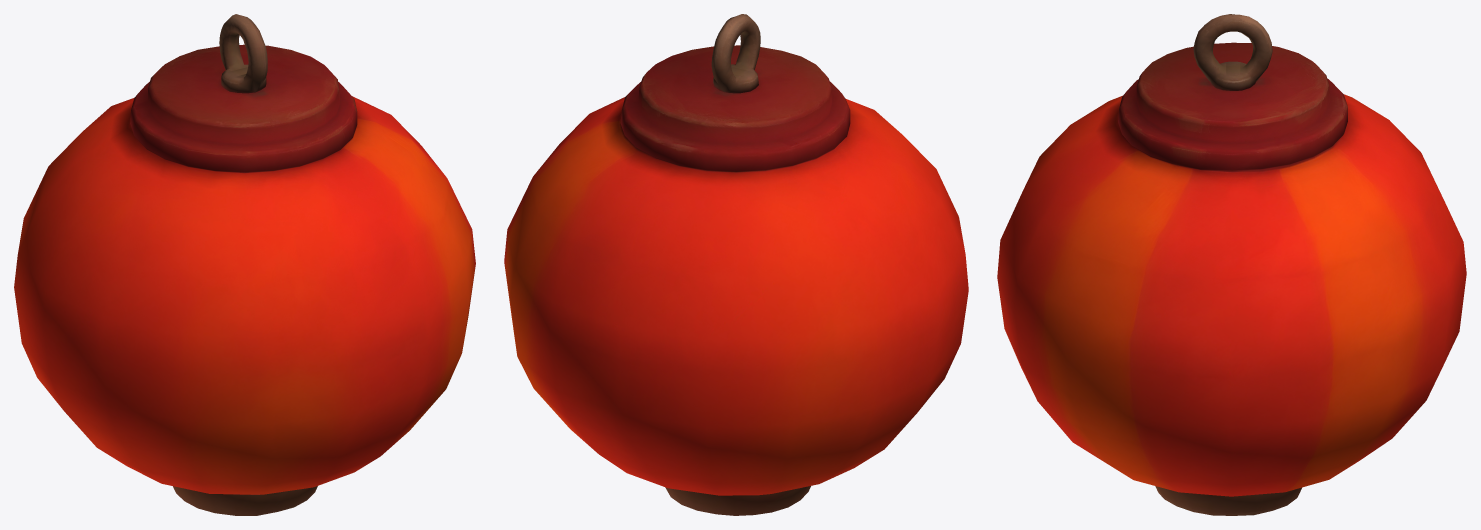
The picture shows the model from 3 angles, left to right: view 1: azimuth 30°, elevation 25°; view 2: azimuth 150°, elevation 25°; view 3: azimuth 270°, elevation 25°; orthographic projection.
Visible parts, largest first — view 1: tripo_node_fa86c13d-bb0a-4269-8cfd-2da66dbc8569; view 2: tripo_node_fa86c13d-bb0a-4269-8cfd-2da66dbc8569; view 3: tripo_node_fa86c13d-bb0a-4269-8cfd-2da66dbc8569.
Part boxes in pixels (box(x1,y1,x2,y2)): tripo_node_fa86c13d-bb0a-4269-8cfd-2da66dbc8569: box(14, 14, 475, 515); tripo_node_fa86c13d-bb0a-4269-8cfd-2da66dbc8569: box(504, 14, 968, 515); tripo_node_fa86c13d-bb0a-4269-8cfd-2da66dbc8569: box(997, 14, 1466, 515).
Size of the model in its own units: 0.8926 by 0.998 by 0.8887.
1 material, 1 textured.
